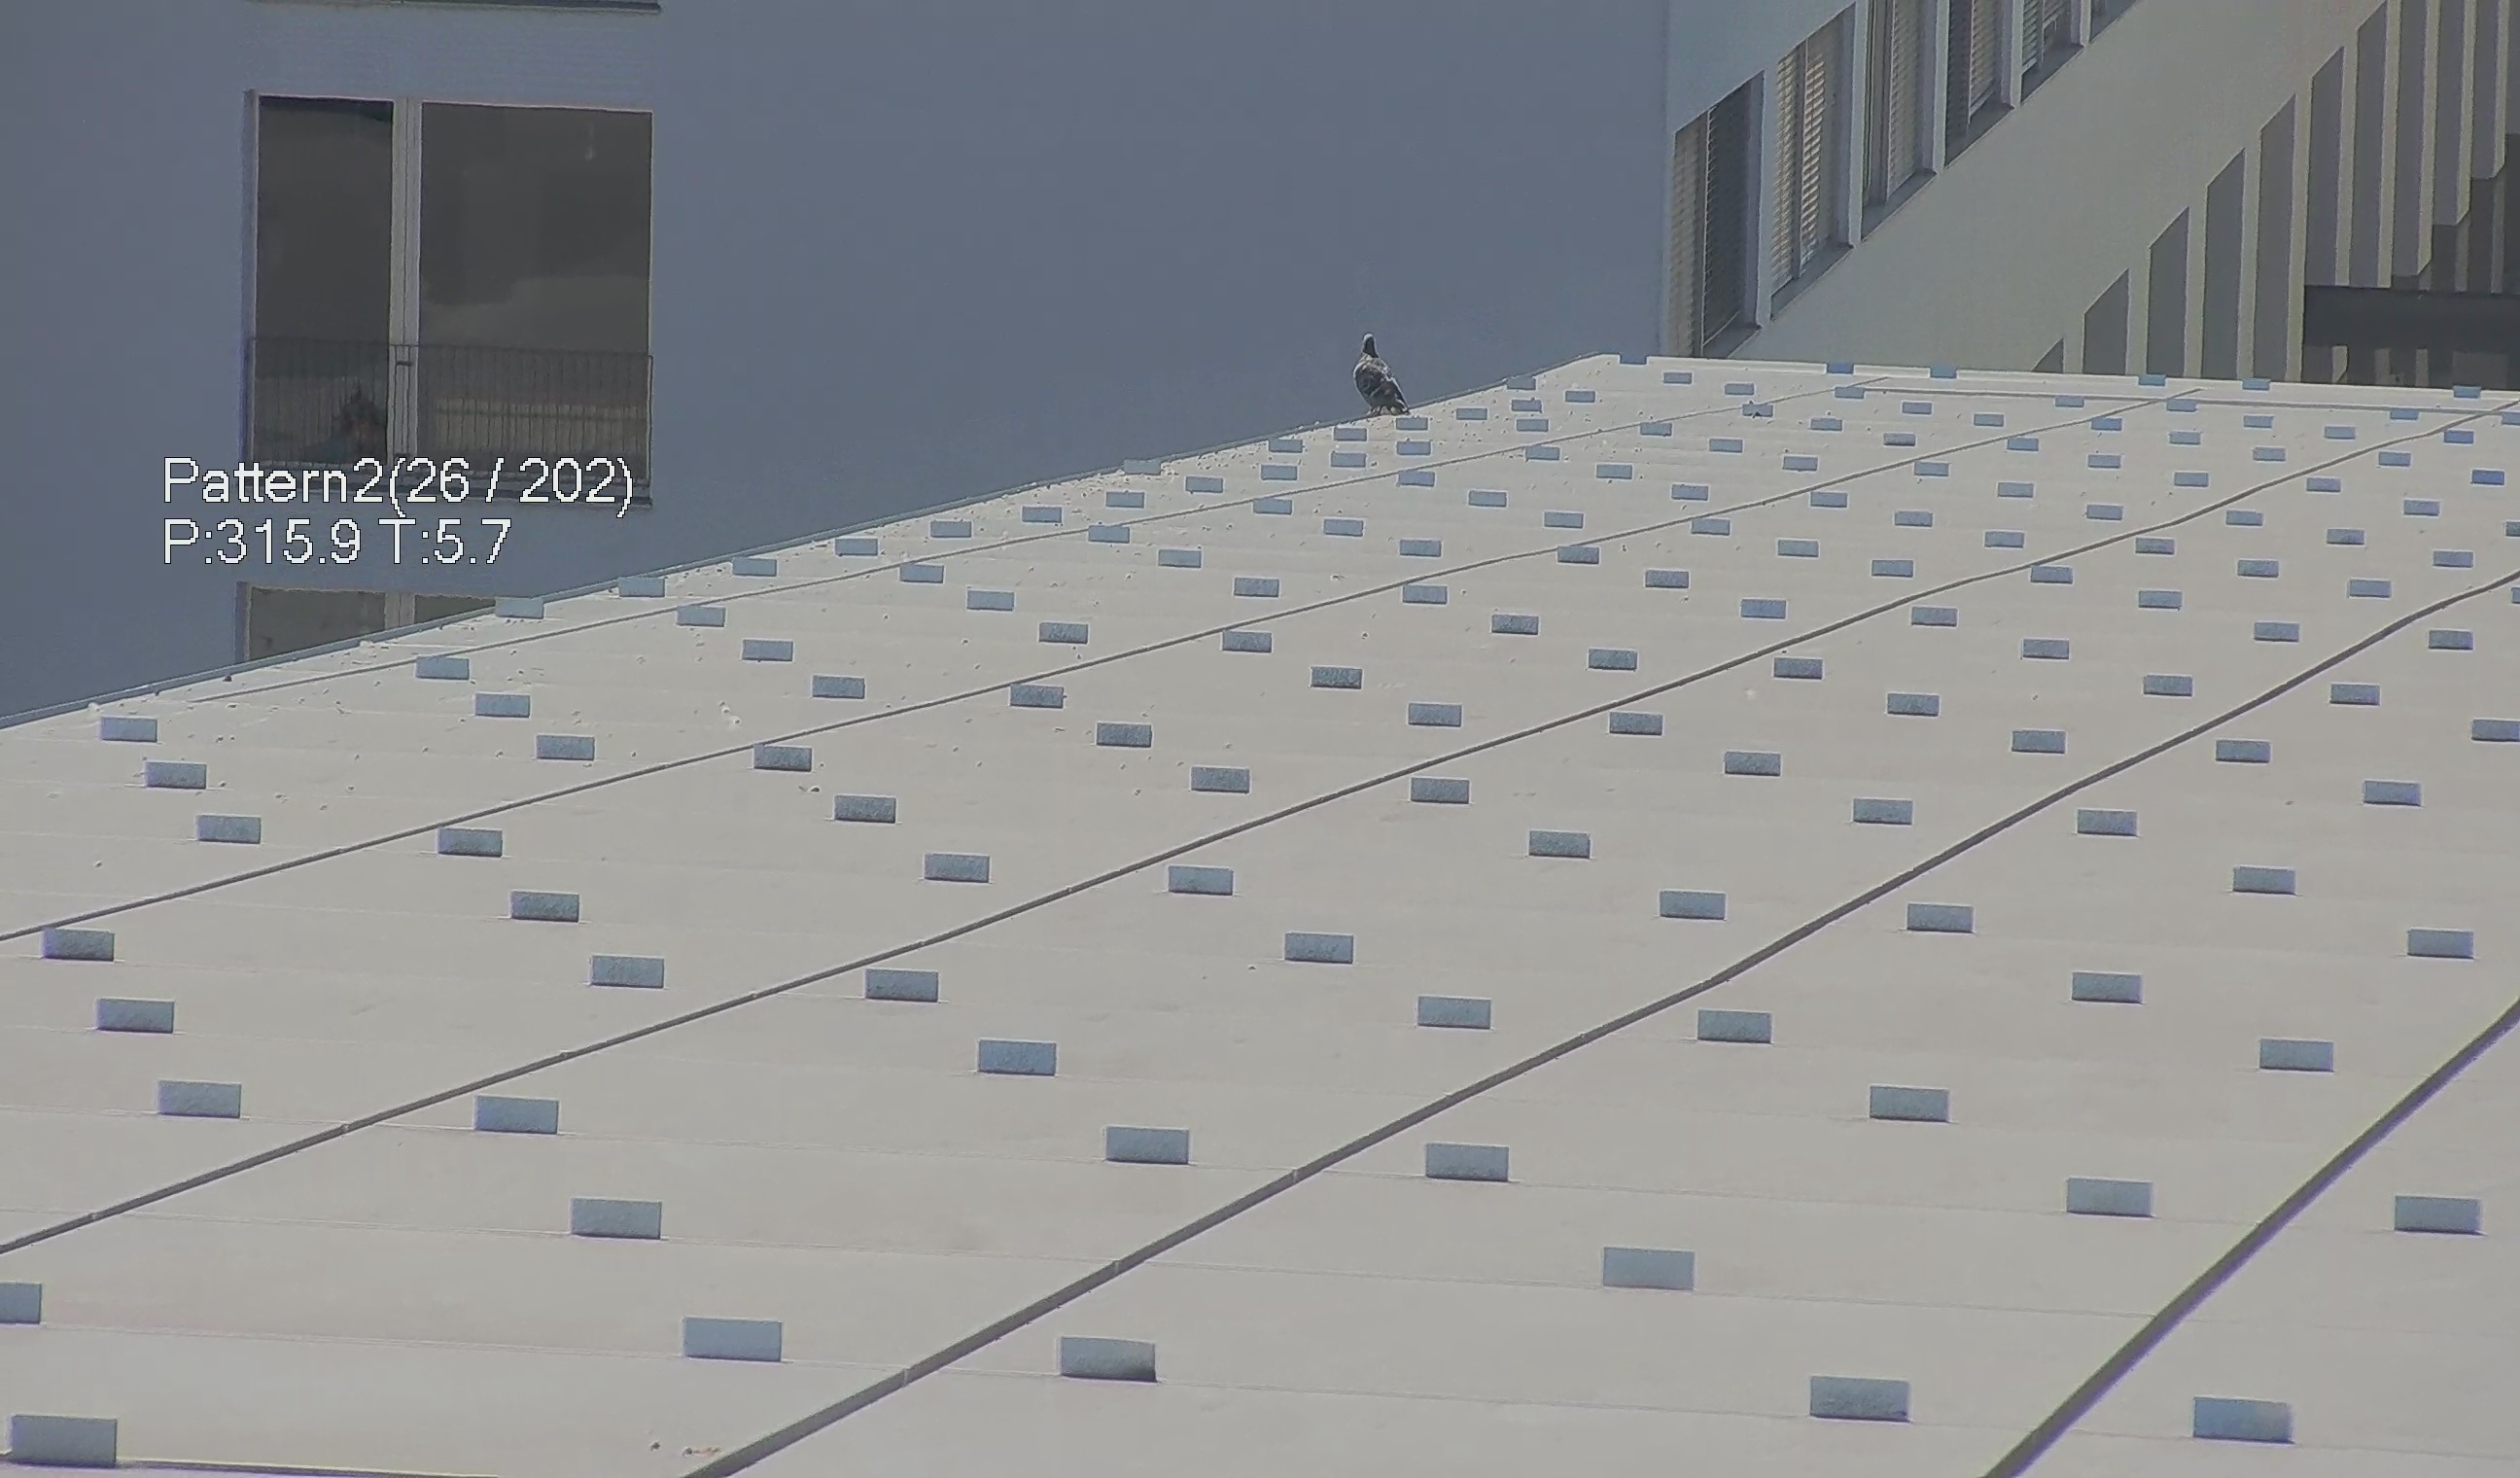Pigeon: (1340, 317, 1421, 422)
